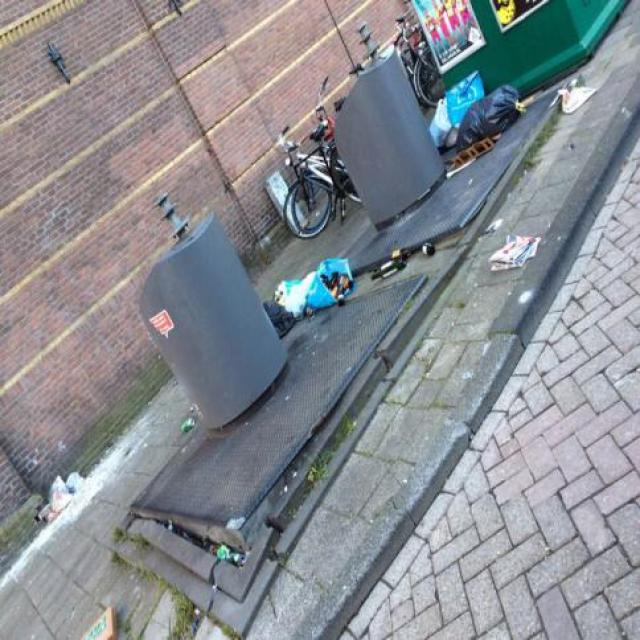Anorganik: (270, 262, 357, 320), (452, 85, 528, 148), (428, 81, 474, 126)
